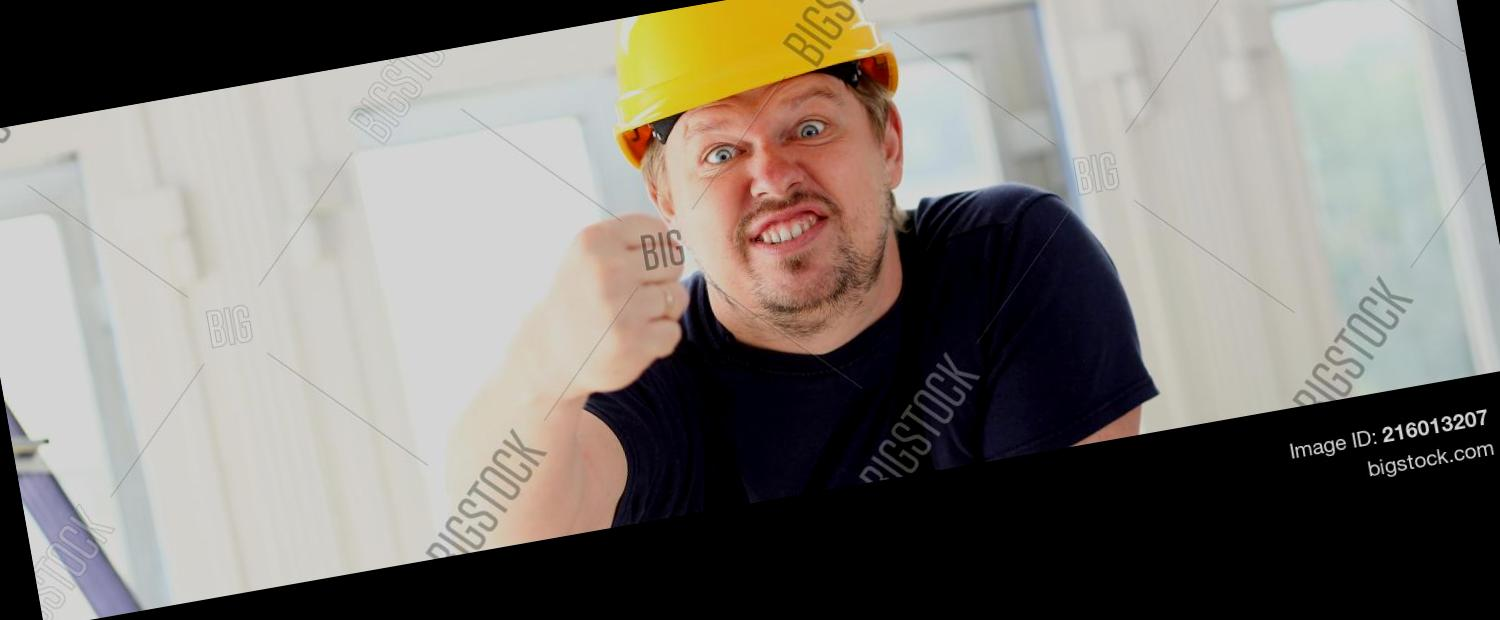helmet: (575, 0, 942, 176)
no_vest: (561, 196, 1183, 525)
person: (526, 0, 1154, 517)
